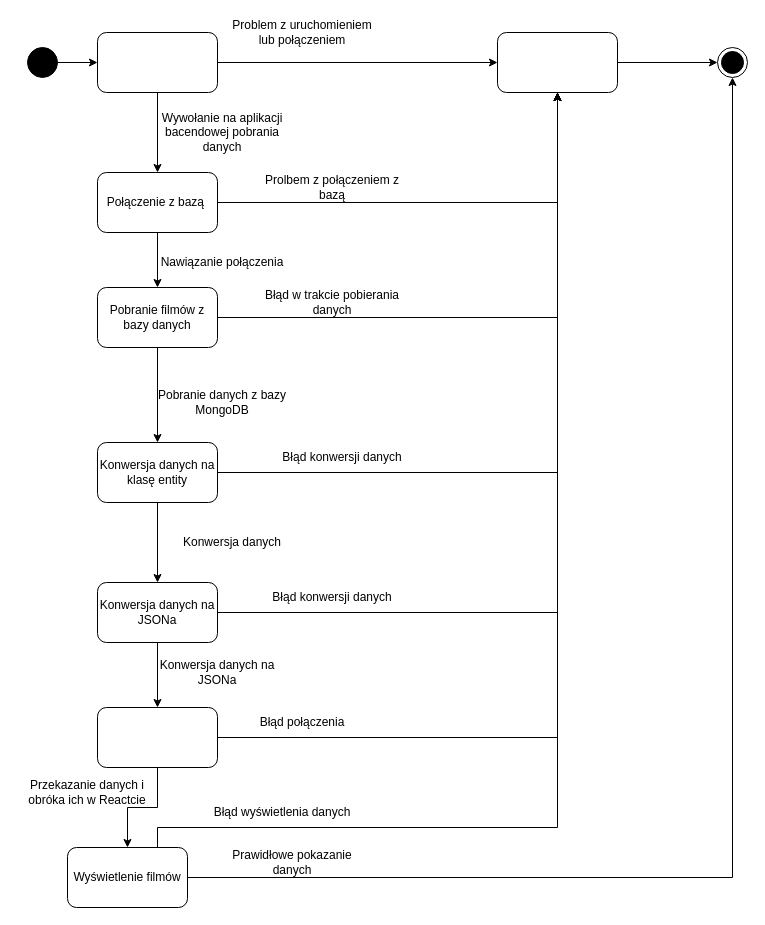
The diagram is 765 pixels wide and 925 high, and some of its shapes have lost their labels. The box of each missing label's shape, as (x1, y1, x2, y2) in pixels:
Przekazanie danych do aplikacji React: (96, 706, 218, 768)
Uruchomienie aplikacji React i połączneie z aplikacją backendową: (96, 32, 218, 92)
Wyświetlenie błędu: (496, 32, 618, 92)
